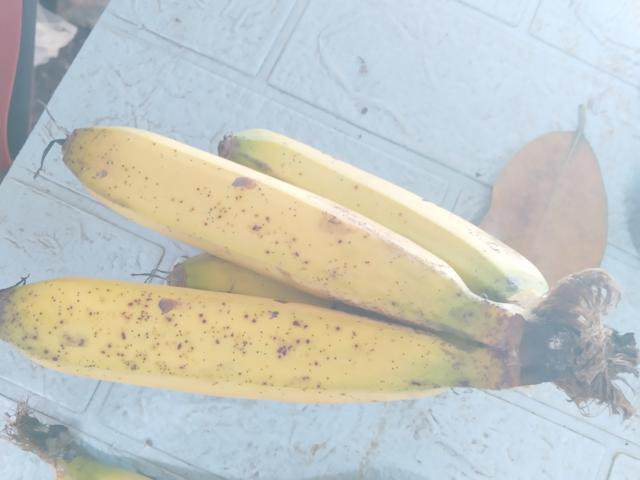ripe: (21, 114, 469, 328), (10, 258, 513, 442)
